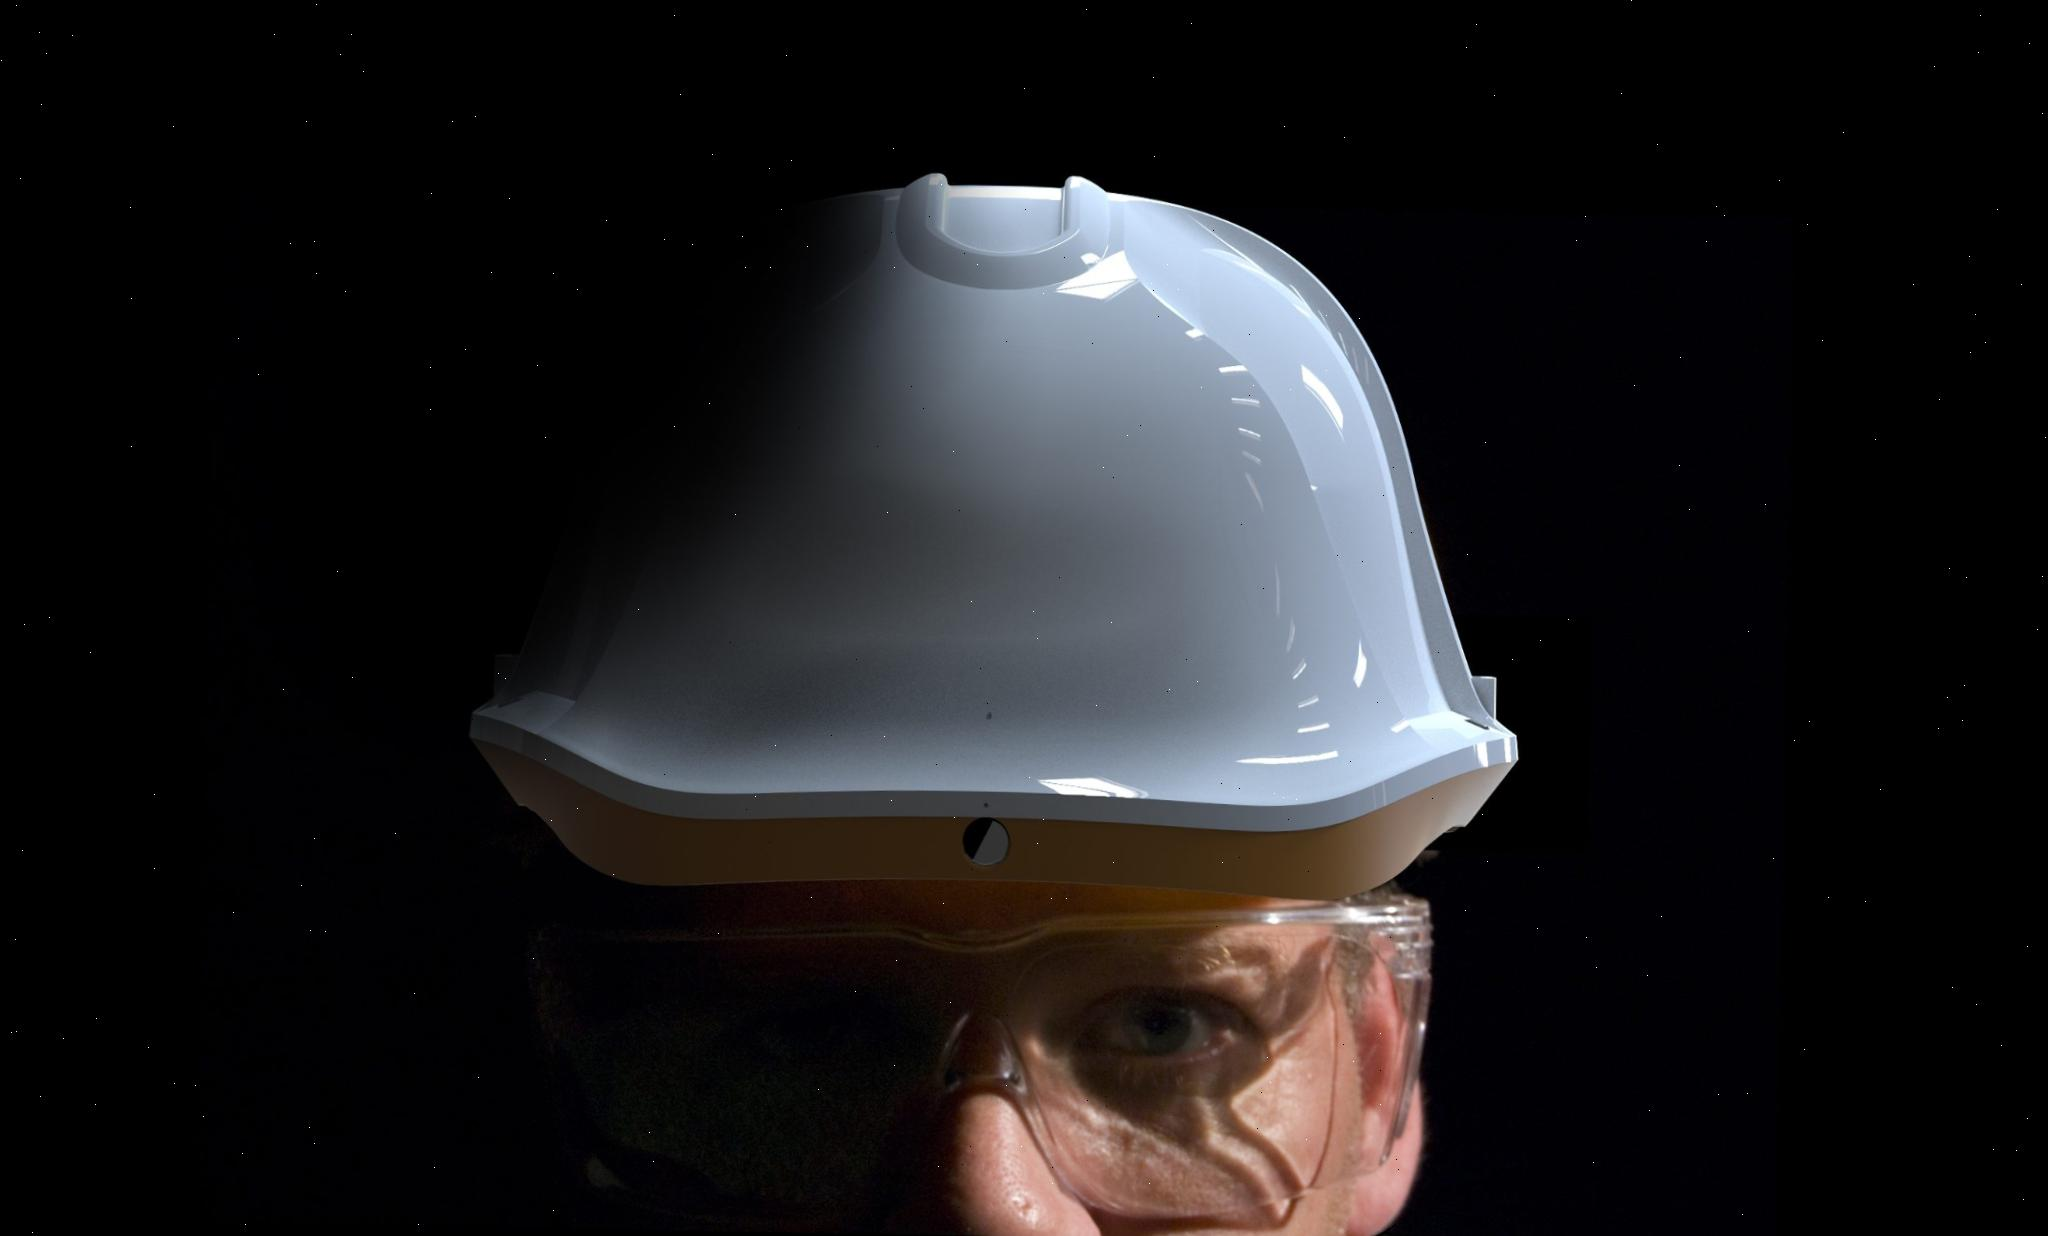helmet: (470, 161, 1529, 926)
